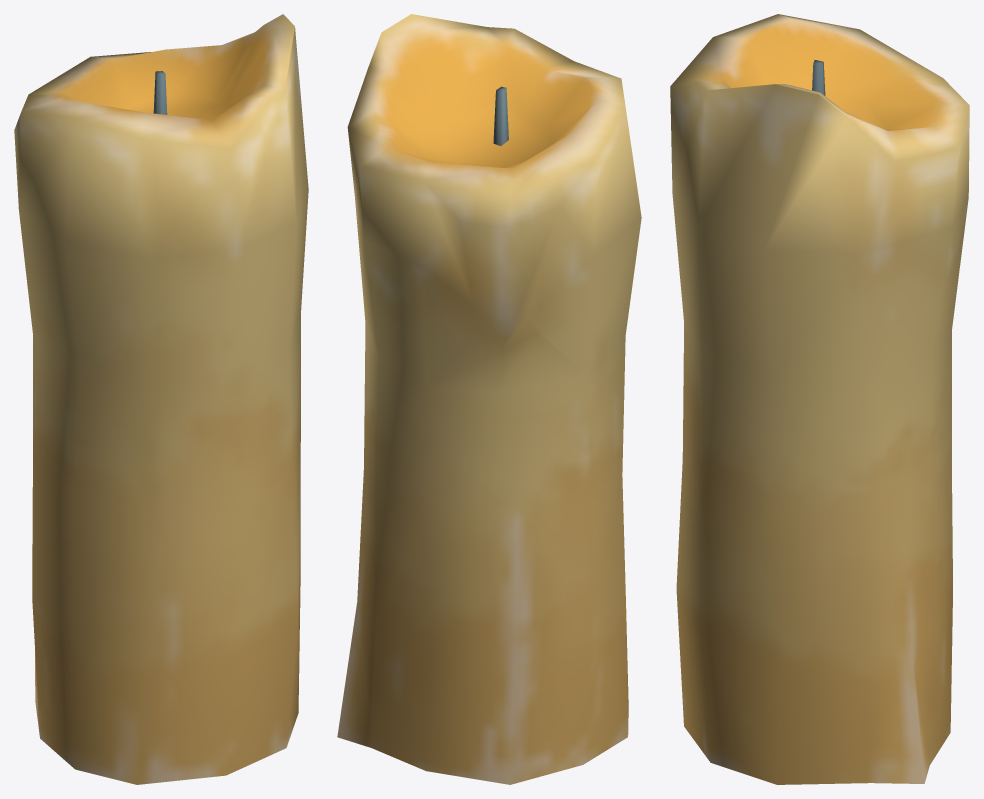
Rendered from candle_2.glb.
The picture shows the model from 3 angles, left to right: view 1: azimuth 30°, elevation 25°; view 2: azimuth 150°, elevation 25°; view 3: azimuth 270°, elevation 25°; orthographic projection. The views are drawn at different scales.
Visible parts, largest first — view 1: Candle_2; view 2: Candle_2; view 3: Candle_2.
Part boxes in pixels (<box>): Candle_2: <box>14,14,308,784</box>; Candle_2: <box>337,14,641,784</box>; Candle_2: <box>670,14,969,784</box>.
Bounding box in the file's own units: 0.0944 × 0.2511 × 0.0975.
Materials: 1 (1 with a texture image).
